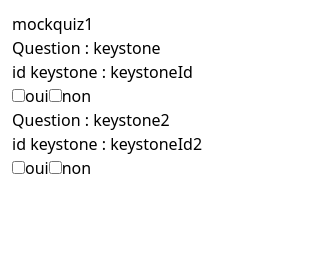
Test case: QCMDisplay integration test › Component should display root true question on click
Click the checkbox with test id "oui-checkbox-keystoneId" at coordinates (18, 96), box 12,89 -> 25,102
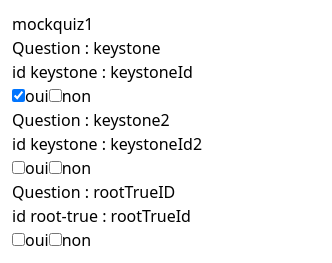
Now the heading "Question : rootTrueID" is shown, box 12,181 -> 175,203
